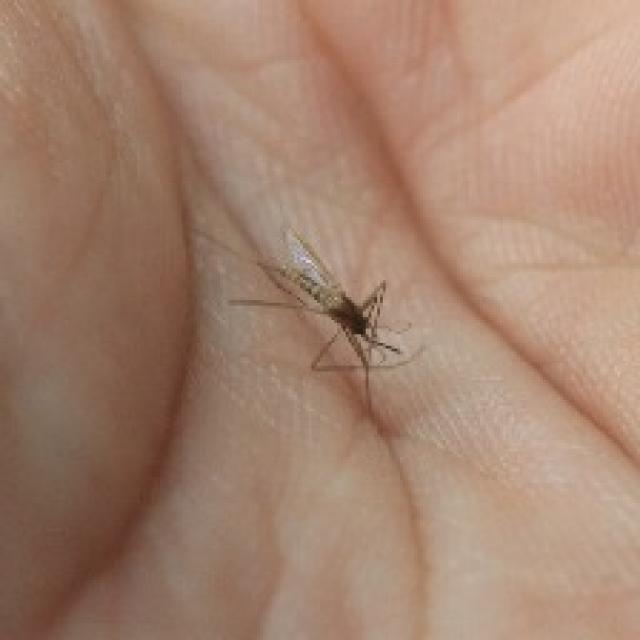culex: (226, 226, 423, 406)
